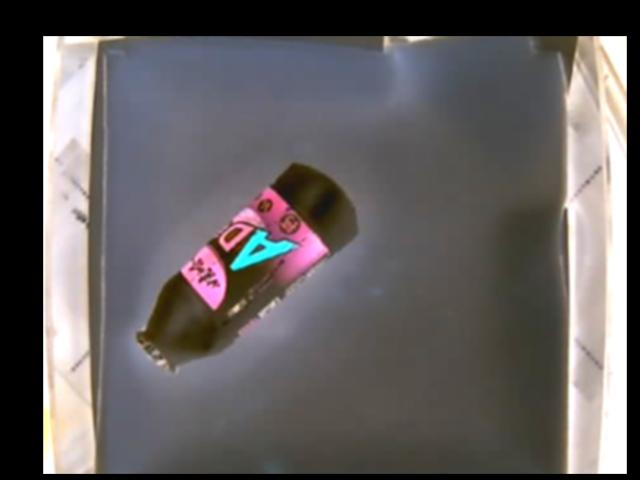Bottle: (132, 165, 356, 375)
